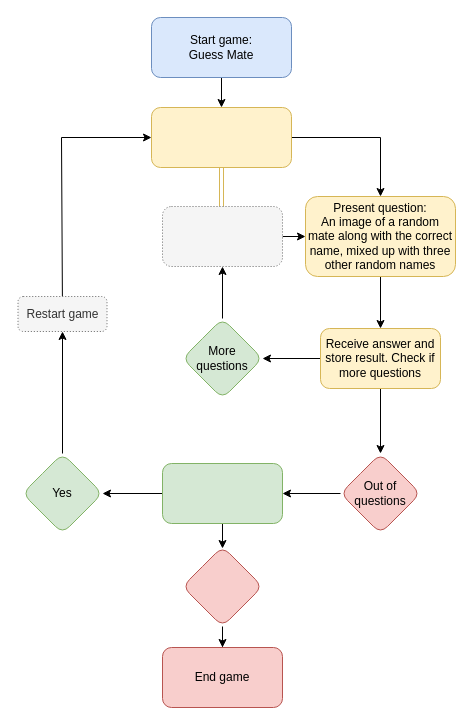
The diagram is 473 pixels wide and 725 high, and some of its shapes have lost their labels. Here are the shapes that lost their labels. From the top down, the centre of each, then its label:
At point (221, 137): "Ask for level of difficulty (amount of questions) Min: 10 Max: all mates".
At point (222, 236): "Iterate with a new mate, as many times as level of difficulty.".
At point (222, 493): "Present result along with high score. Ask if user wants to play again".
At point (222, 586): "No".
